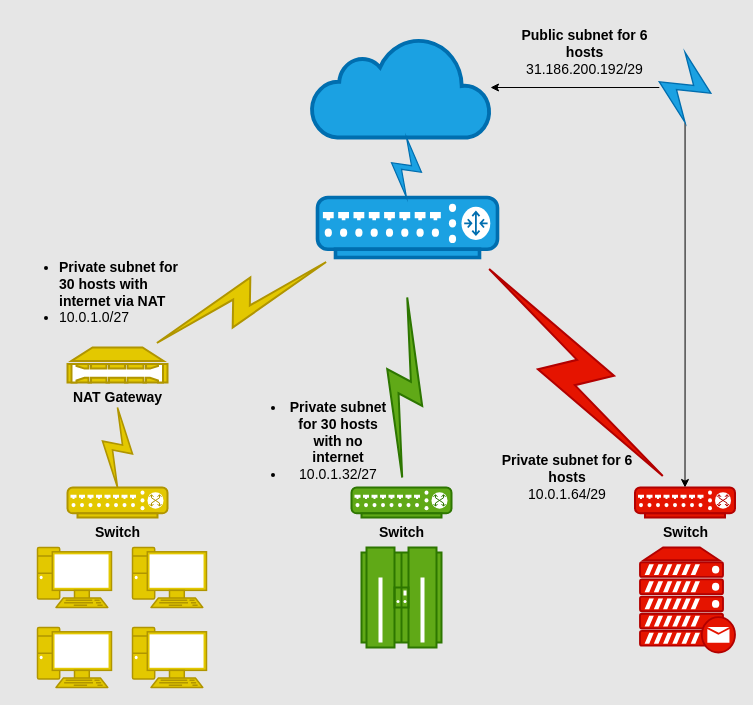
Image size: 753x705. Some labels were removed from this diagram. The centre of each missing label's shape, as x and y in pixels:
"Internet Gateway" goes at point (400, 87).
"Router" goes at point (407, 227).
